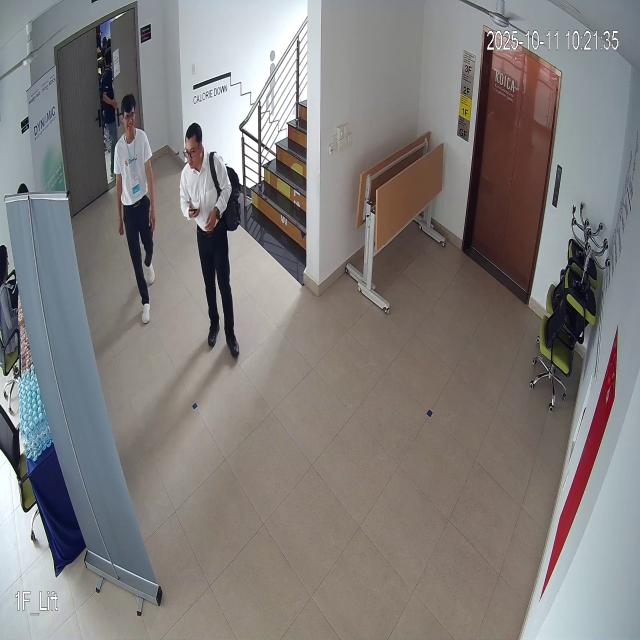face: (182, 123, 210, 172), (119, 93, 138, 137)
